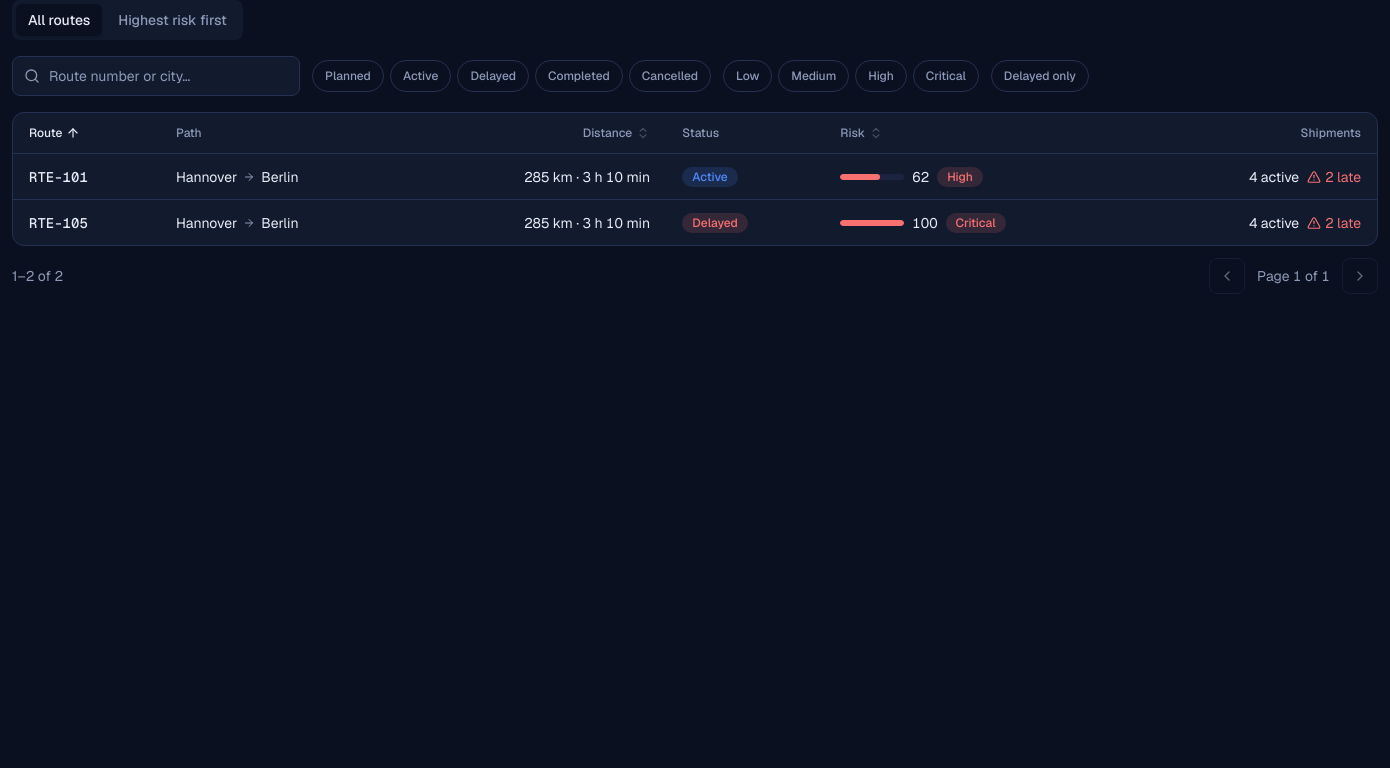
Routes › explains a route's risk score in the detail panel
Click the button "RTE-101" at [58, 176], box [29,166,88,186]
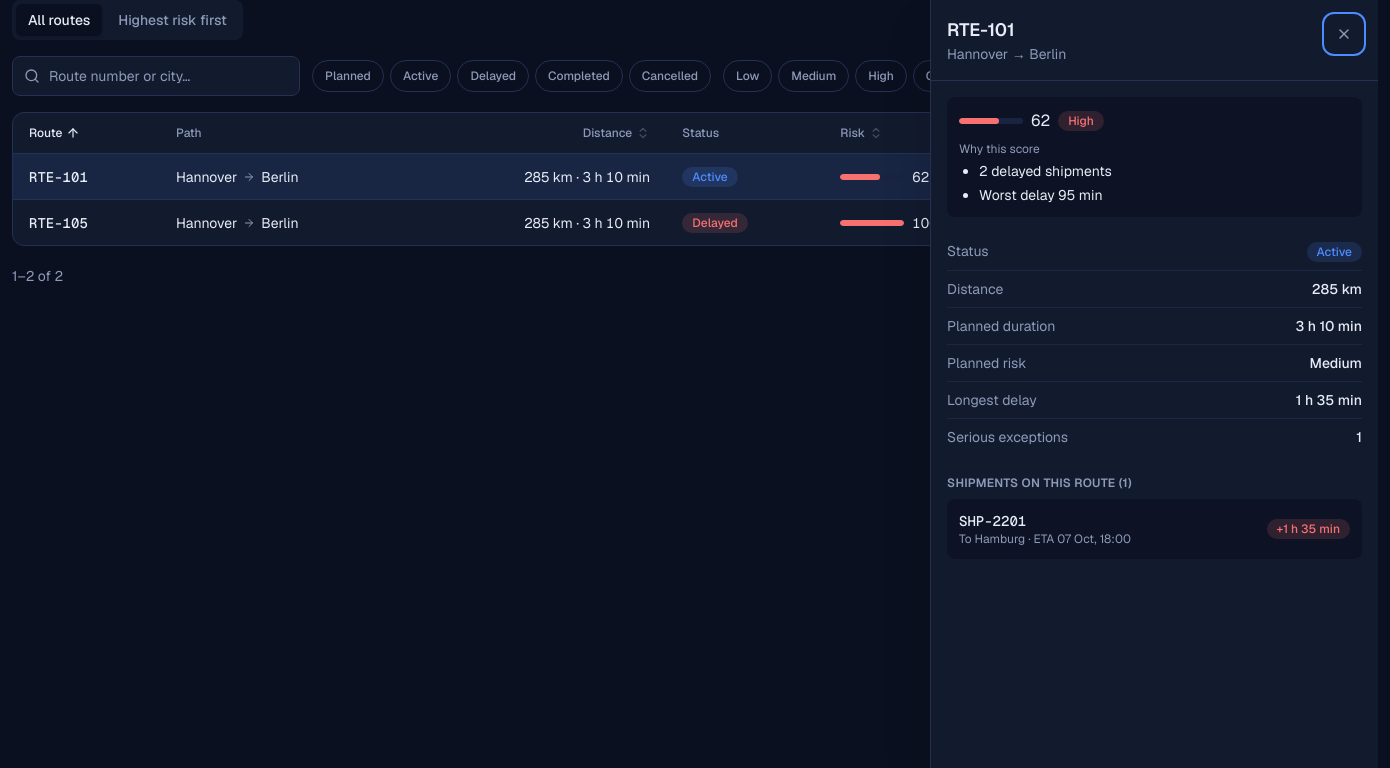
Now the list item "2 delayed shipments" is shown, box [979,162,1112,180]
Now the list item "Worst delay 95 min" is shown, box [979,186,1103,204]
Now the text "SHP-2201" is shown, box [959,512,1026,530]
